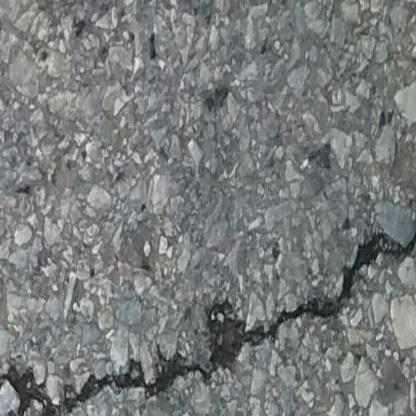Cracks: (0, 202, 416, 416)
